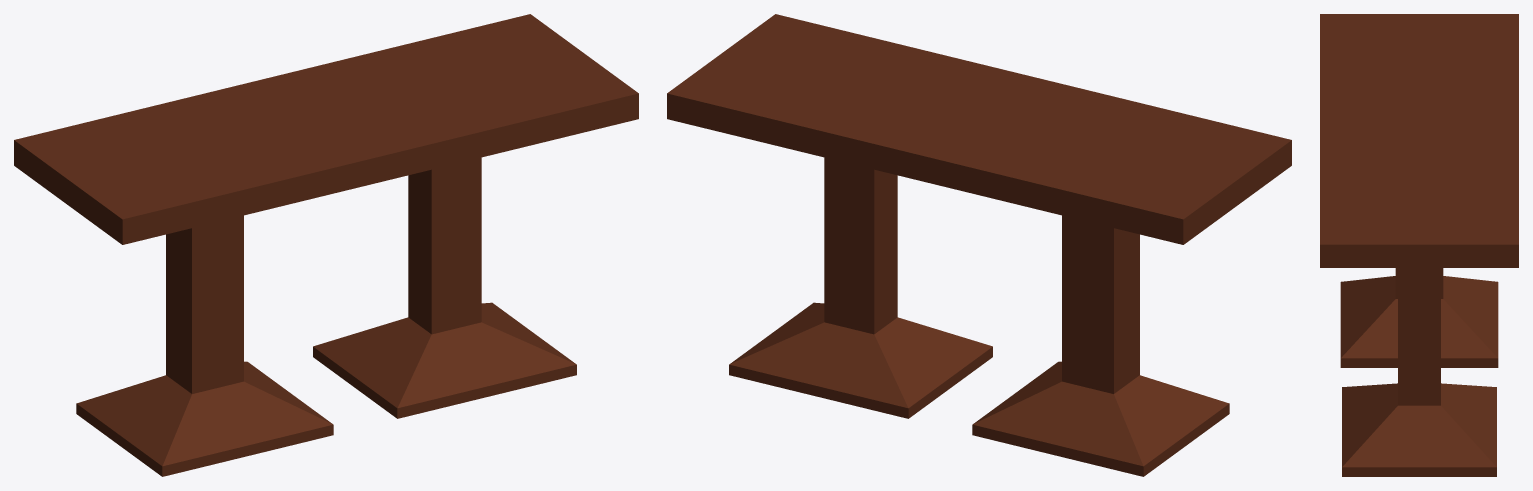
File: TischGroß.glb
3 views of the same model, side by side, from view 1: azimuth 30°, elevation 25°; view 2: azimuth 150°, elevation 25°; view 3: azimuth 270°, elevation 25° (orthographic). The views are drawn at different scales.
Visible parts, largest first — view 1: Großer Tisch; view 2: Großer Tisch; view 3: Großer Tisch.
Part boxes in pixels (x1,y1,x2,y2): Großer Tisch: [14, 14, 638, 476]; Großer Tisch: [667, 14, 1291, 476]; Großer Tisch: [1320, 14, 1518, 476].
Bounding box in the file's own units: 2.91 × 1.5 × 1.06.
